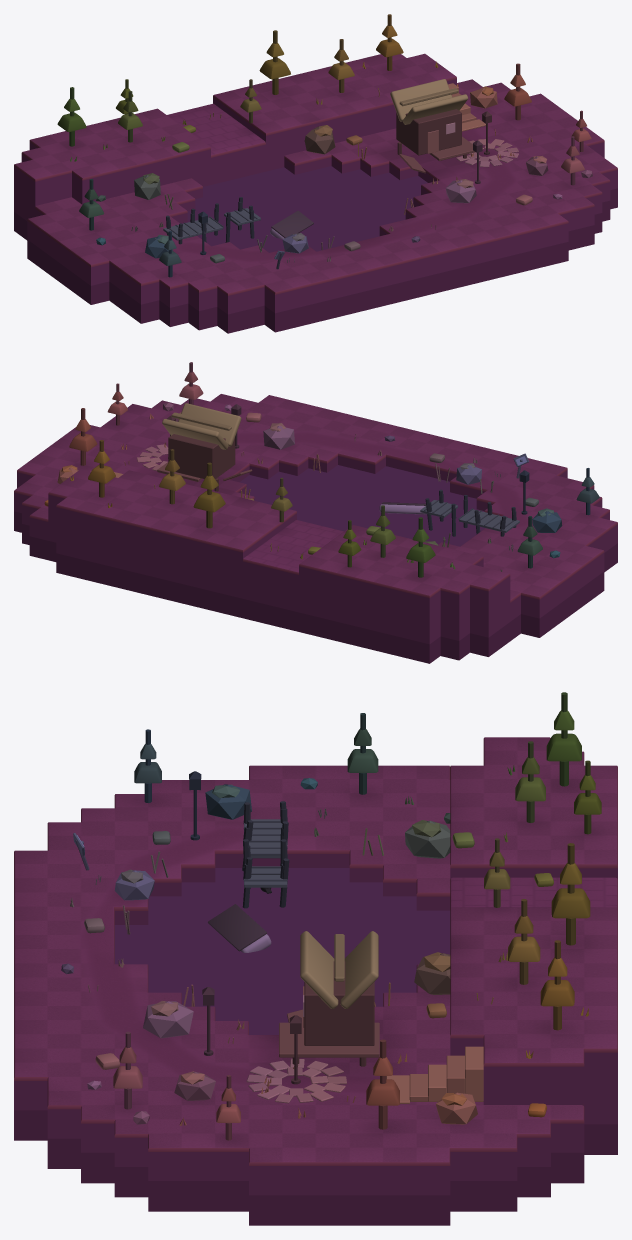
The model's file is river_2_withered.glb.
3 renders of one model, top to bottom at view 1: azimuth 30°, elevation 25°; view 2: azimuth 150°, elevation 25°; view 3: azimuth 270°, elevation 25°, orthographic. The views are drawn at different scales.
Parts seen in each view (by area): view 1: Terrain.001, Props, Trees, Buildings, Greenery; view 2: Terrain.001, Trees, Props, Buildings, Greenery; view 3: Terrain.001, Props, Trees, Buildings, Greenery.
Part boxes in pixels (<box>): Terrain.001: <box>14,53,617,333</box>; Props: <box>96,83,592,269</box>; Trees: <box>57,14,591,277</box>; Buildings: <box>270,79,475,239</box>; Greenery: <box>70,61,532,263</box>; Terrain.001: <box>14,394,617,663</box>; Trees: <box>69,362,599,577</box>; Props: <box>57,402,562,558</box>; Buildings: <box>157,403,426,514</box>; Greenery: <box>44,412,538,571</box>; Terrain.001: <box>14,737,617,1225</box>; Props: <box>61,771,483,1124</box>; Trees: <box>113,692,601,1140</box>; Buildings: <box>208,904,379,1066</box>; Greenery: <box>70,765,588,1125</box>.
Bounding box in the file's own units: 28 × 6.75 × 18.
Materials: 34 (1 with a texture image).
